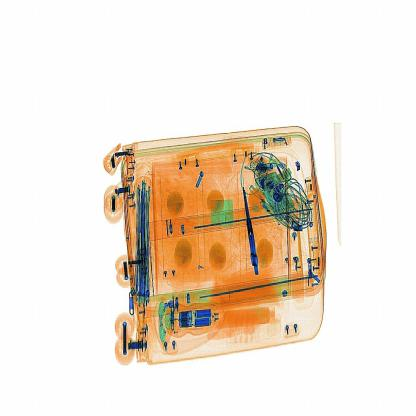gun: (235, 178, 268, 275)
